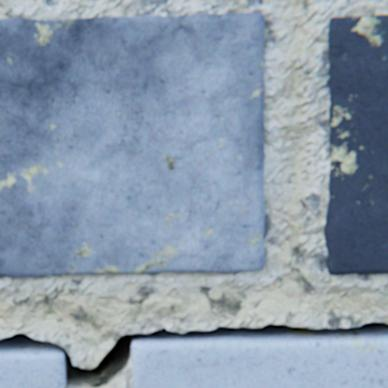brick: (0, 14, 264, 277), (323, 16, 387, 275), (131, 337, 387, 387), (0, 351, 65, 387)
crack: (0, 322, 387, 387)
